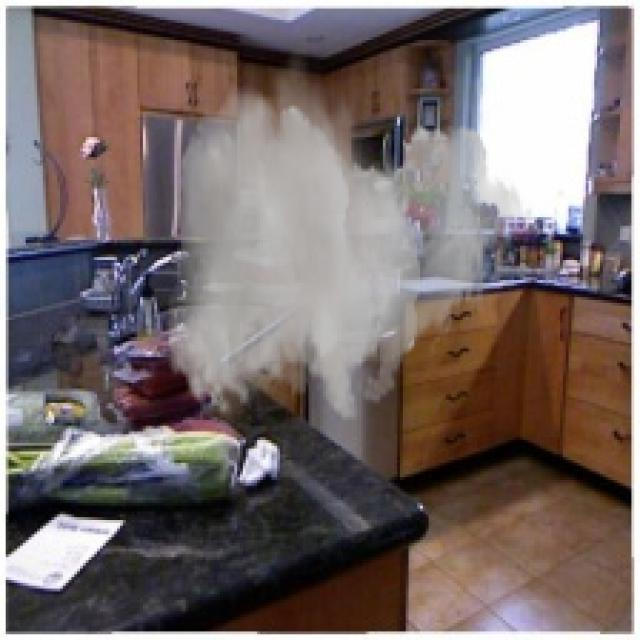Smoke: (166, 43, 534, 423)
